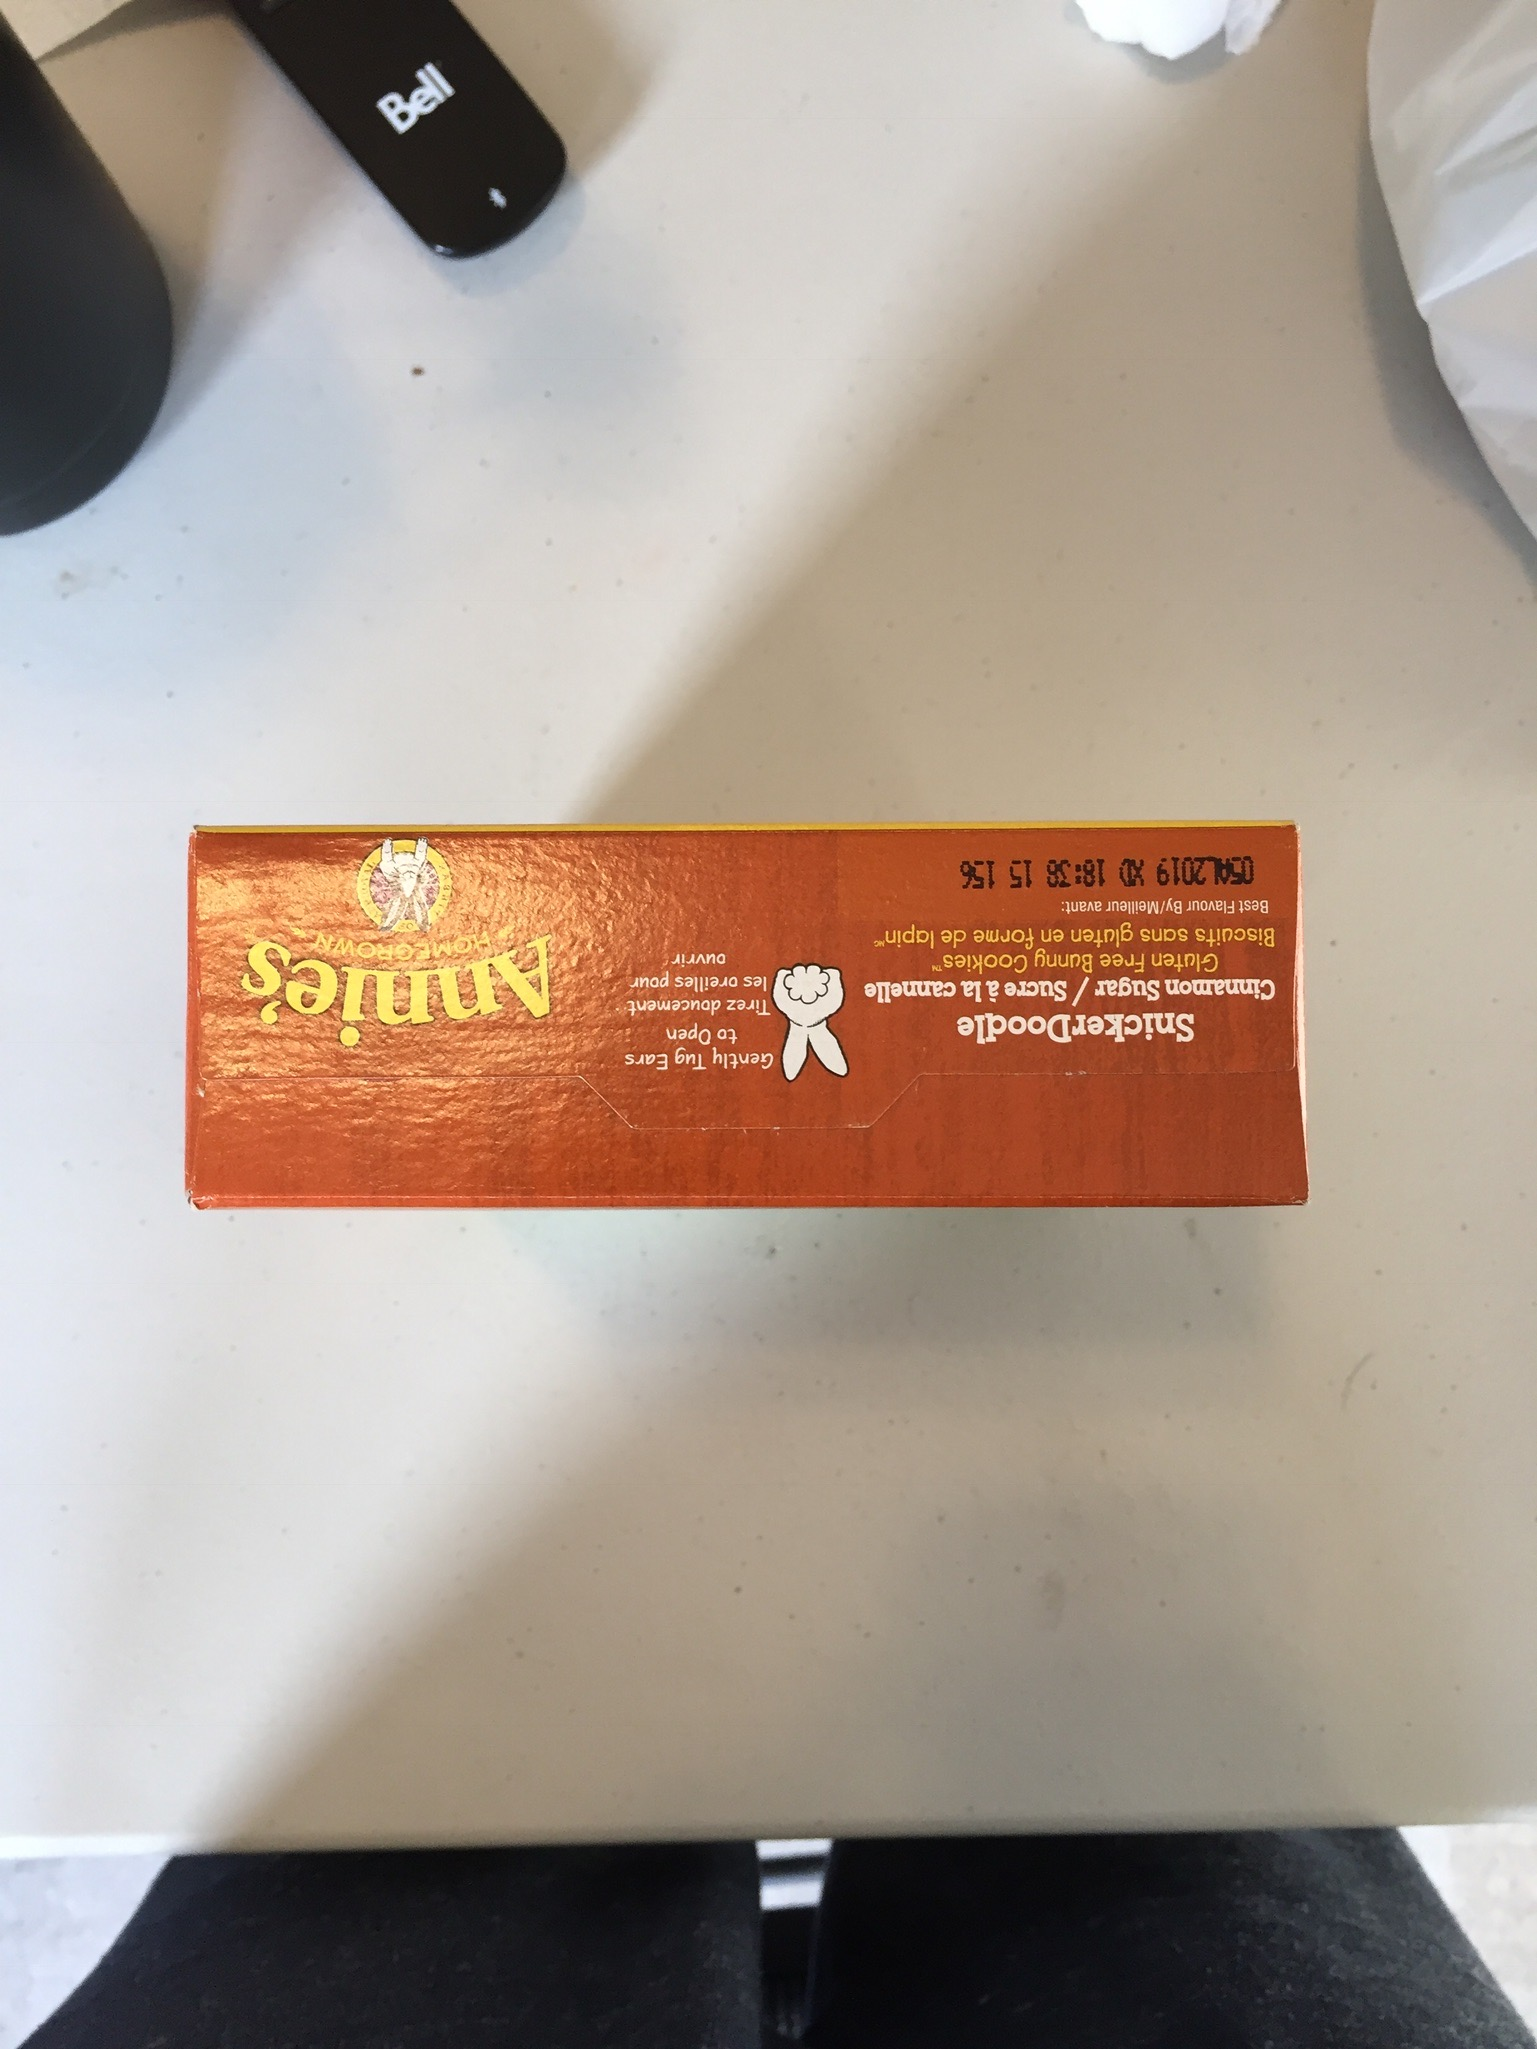annies_snickerdoodle_cinnamon_sugar: (202, 830, 1296, 1196)
